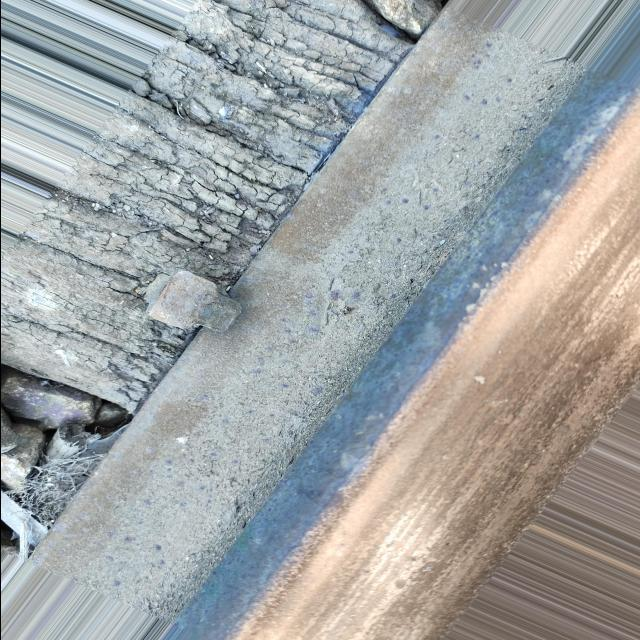squats_high: (390, 553, 418, 592), (471, 373, 487, 387)
